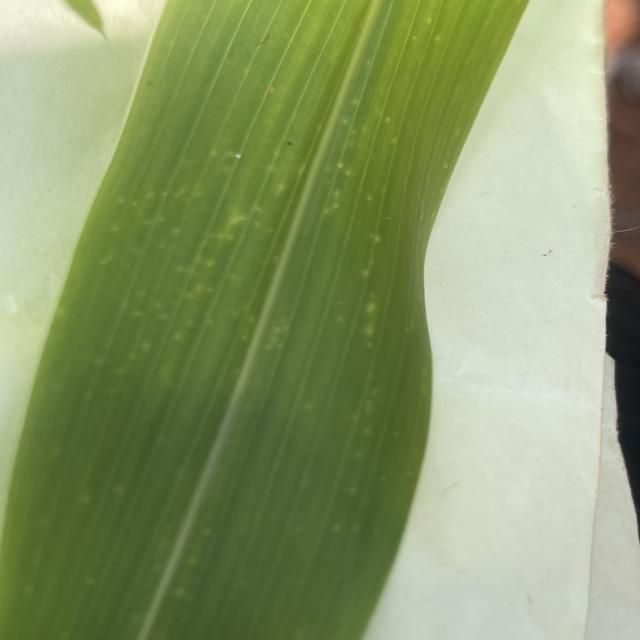millet_healthy: (1, 0, 527, 640)
